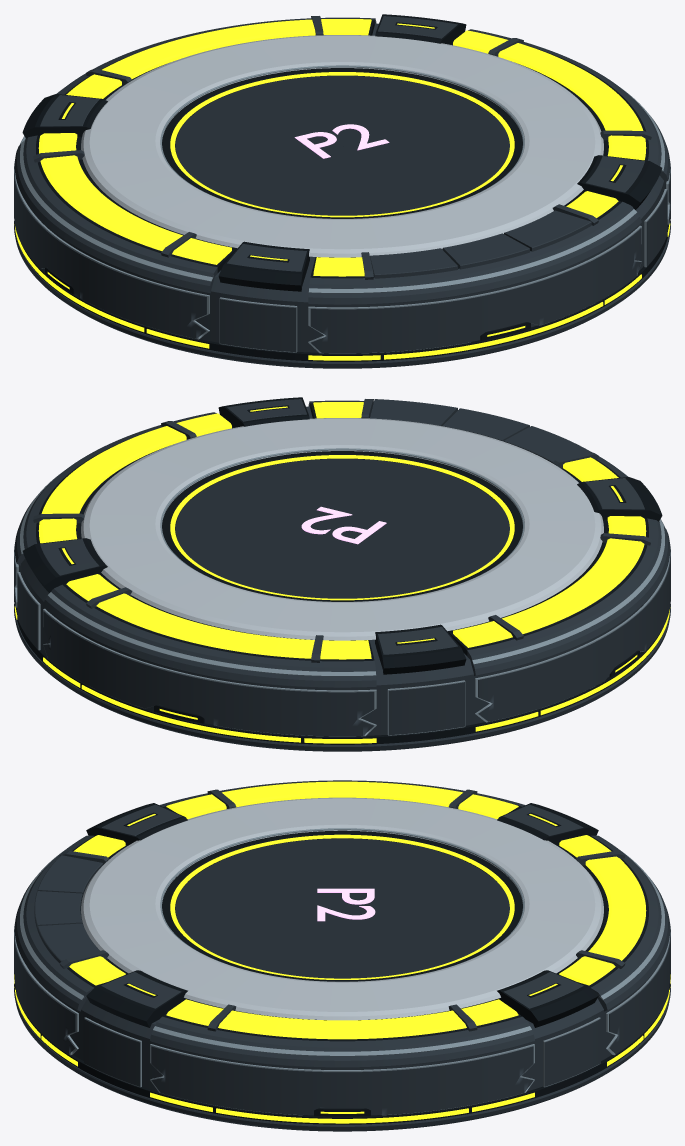
Rendered from Blocker.fbx.
3 renders of one model, top to bottom at view 1: azimuth 30°, elevation 25°; view 2: azimuth 150°, elevation 25°; view 3: azimuth 270°, elevation 25°, orthographic.
Visible parts, largest first — view 1: SM_Puck_Blocker_P2_HighDetail; view 2: SM_Puck_Blocker_P2_HighDetail; view 3: SM_Puck_Blocker_P2_HighDetail.
Part boxes in pixels (x1,y1,x2,y2): SM_Puck_Blocker_P2_HighDetail: [14, 14, 670, 368]; SM_Puck_Blocker_P2_HighDetail: [14, 397, 670, 751]; SM_Puck_Blocker_P2_HighDetail: [14, 780, 670, 1131].
Size of the model in its own units: 106 by 106 by 16.5.
